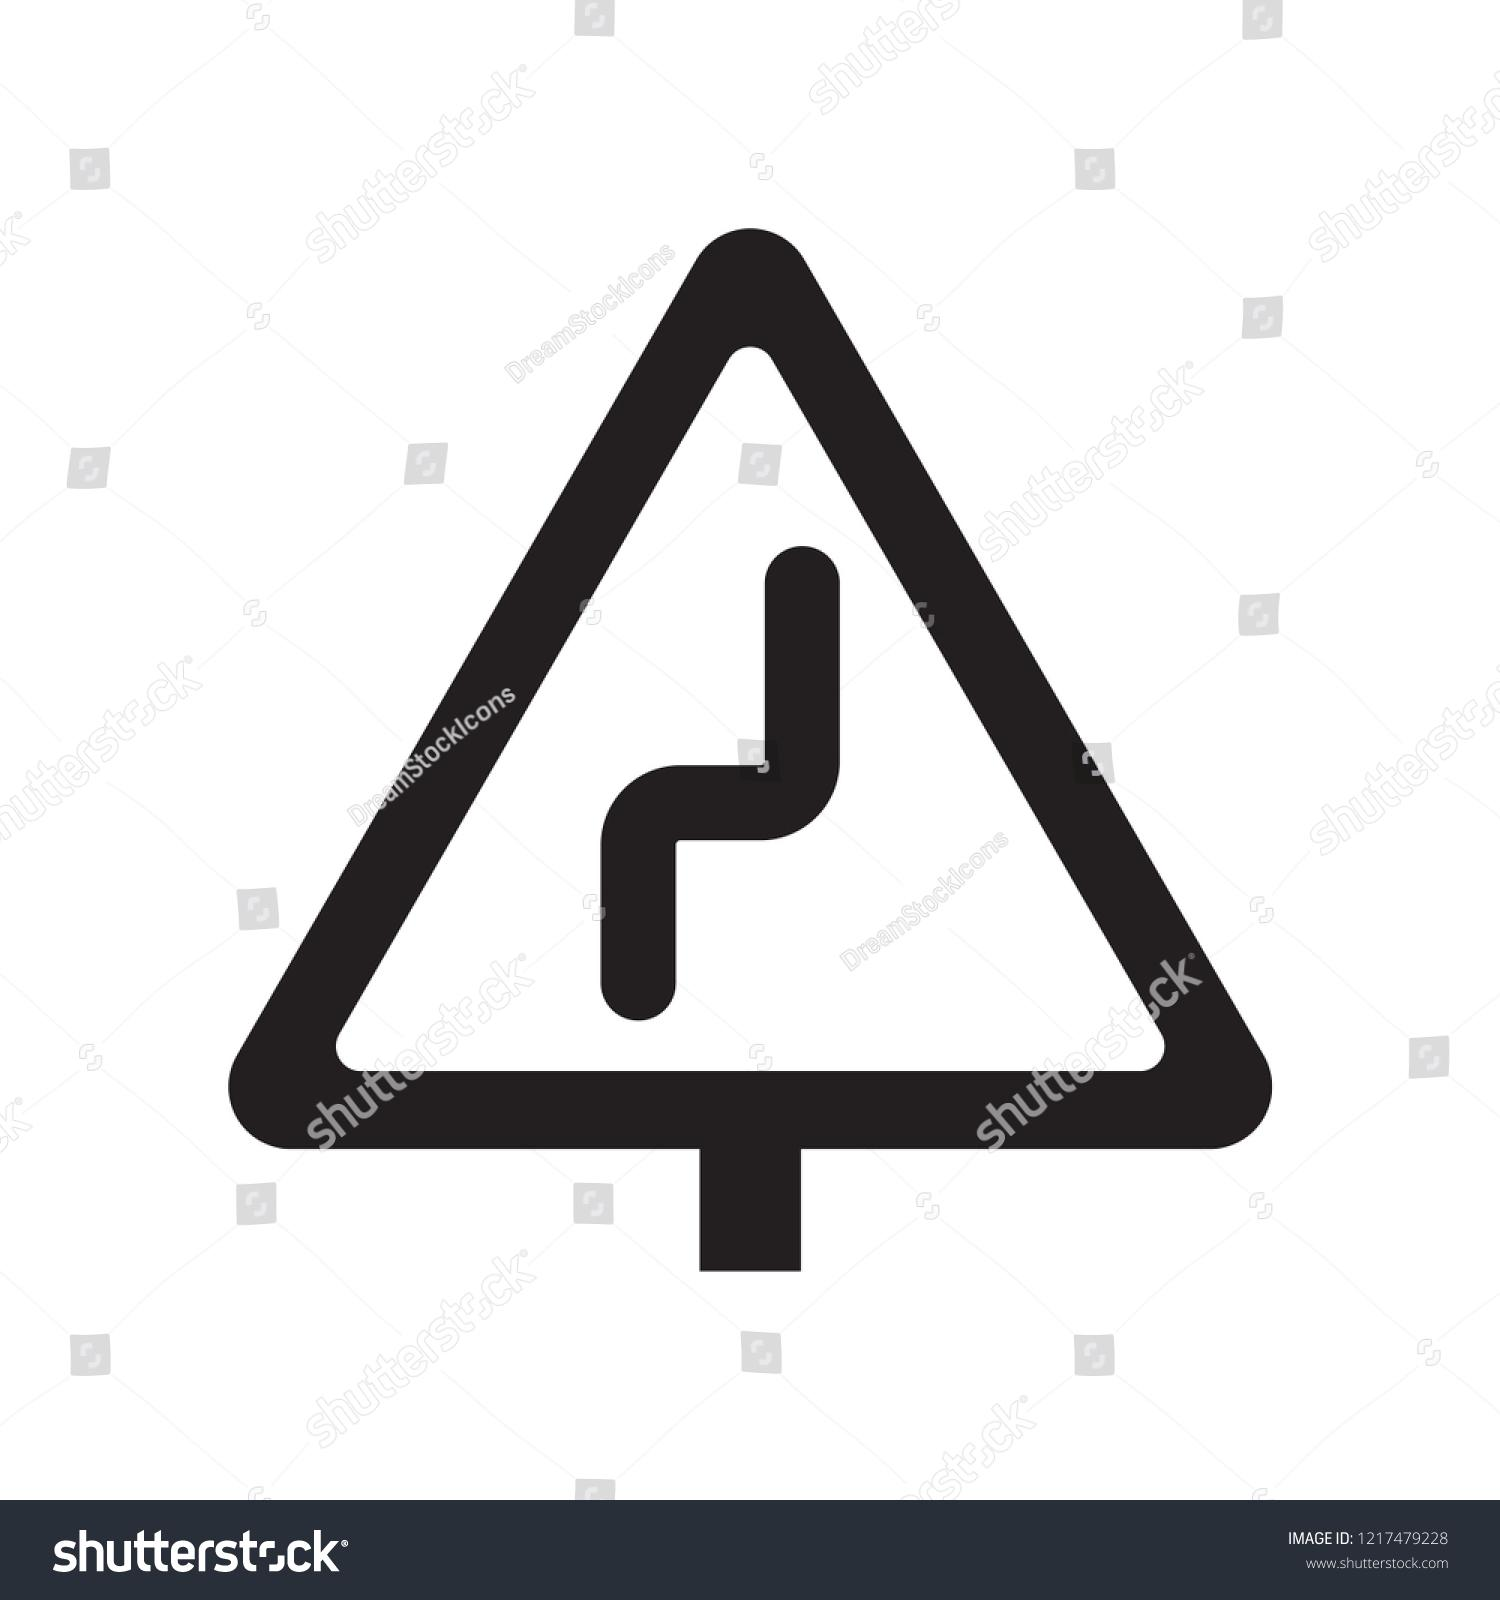Right Reverse Bend: (187, 190, 1301, 1322)
